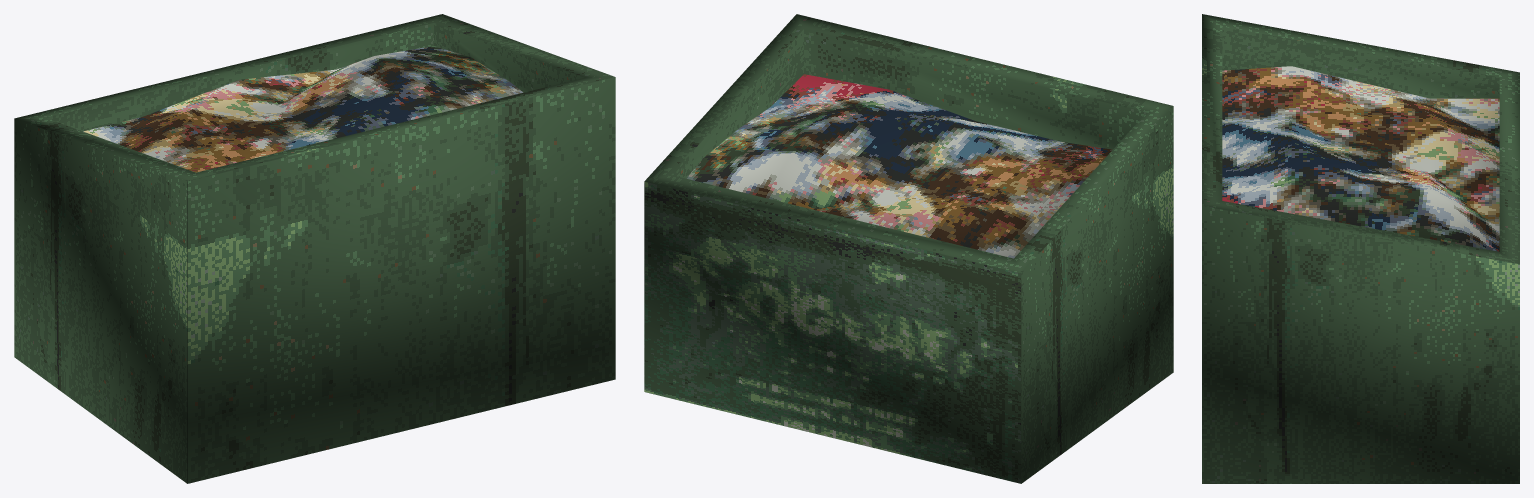
File: dumpster.glb
3 renders of one model, left to right at view 1: azimuth 30°, elevation 25°; view 2: azimuth 150°, elevation 25°; view 3: azimuth 270°, elevation 25°, orthographic. The views are drawn at different scales.
Visible parts, largest first — view 1: Dumspter; view 2: Dumspter; view 3: Dumspter.
Boxes of the visible parts, x1,y1,x2,y2 form: Dumspter: (14, 14, 615, 483); Dumspter: (644, 14, 1173, 483); Dumspter: (1202, 14, 1519, 483).
Size of the model in its own units: 2.55 by 1.72 by 1.78.
Materials: 1 (1 with a texture image).
